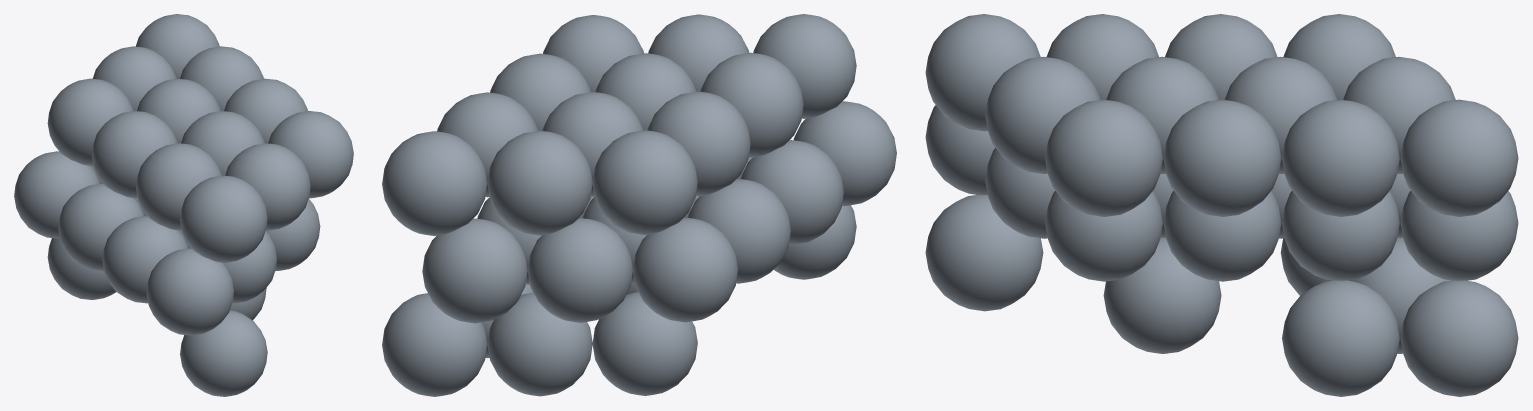
The picture shows the model from 3 angles, left to right: view 1: azimuth 30°, elevation 25°; view 2: azimuth 150°, elevation 25°; view 3: azimuth 270°, elevation 25°; orthographic projection. The views are drawn at different scales.
Parts seen in each view (by area): view 1: GeoSphere287; view 2: GeoSphere287; view 3: GeoSphere287.
Boxes of the visible parts, left/top/right/bottom form: GeoSphere287: left=14, top=14, right=353, bottom=396; GeoSphere287: left=382, top=14, right=896, bottom=396; GeoSphere287: left=925, top=14, right=1518, bottom=396.
Bounding box in the file's own units: 126 × 107 × 201.
Materials: 1 (1 with a texture image).
